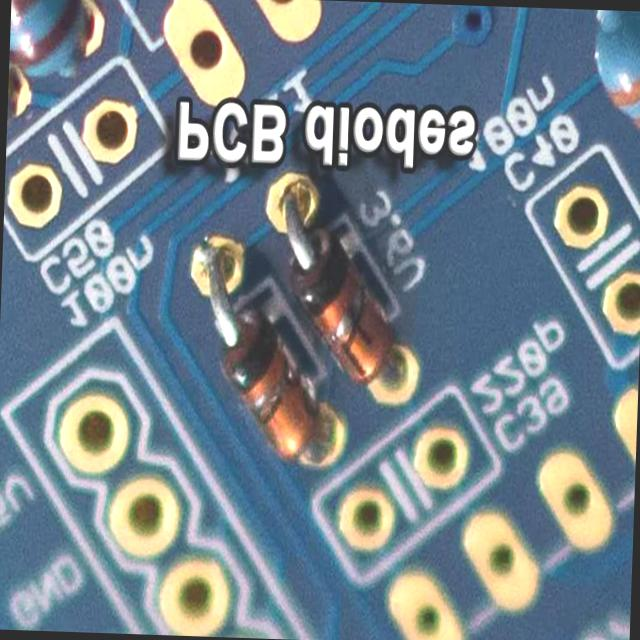zener diode: (290, 236, 398, 392), (217, 300, 321, 460)
